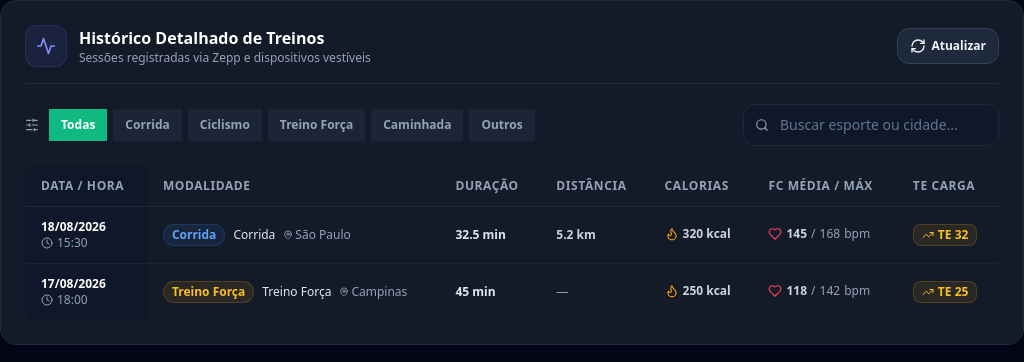
Test: WorkoutsTable › filters workouts by search term in real time
Expected: the text "São Paulo" is shown, [283,227,351,243]
Expected: the text "Campinas" is shown, [339,284,407,300]
Type "Campinas" into the field with placeholder "Buscar esporte ou cidade..." at (871, 125), box [743,104,999,146]
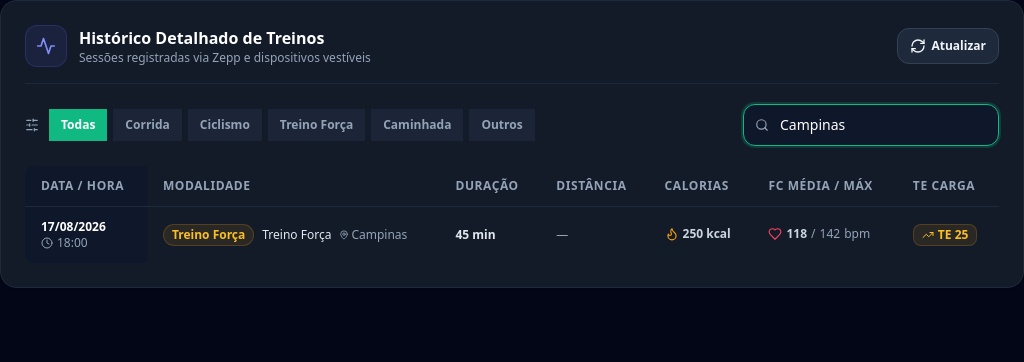
Expected: the text "Campinas" is shown, [339,227,407,243]
Result: the text "São Paulo" is gone
